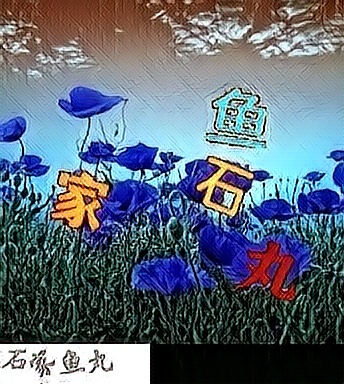BCD2: (46, 169, 111, 233)
CAAF: (190, 153, 255, 217)
CDE8: (233, 240, 298, 304)
D3E3: (205, 86, 270, 150)
